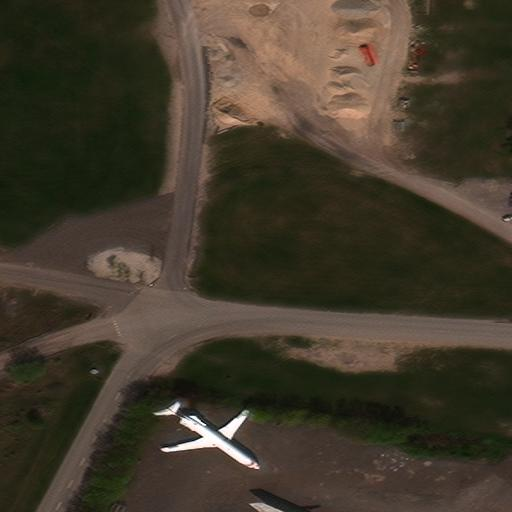Medium Civil Transport: (159, 404, 261, 468)
